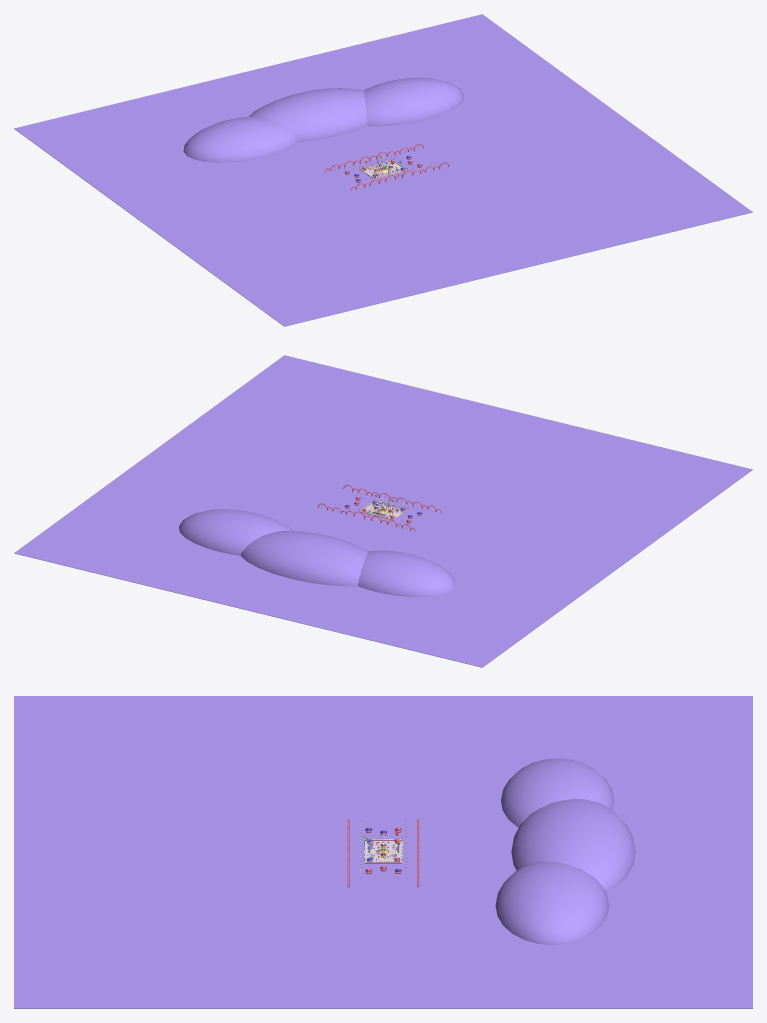
The model's file is diversoes.glb.
3 renders of one model, top to bottom at view 1: azimuth 30°, elevation 25°; view 2: azimuth 150°, elevation 25°; view 3: azimuth 270°, elevation 25°, orthographic. The views are drawn at different scales.
Parts seen in each view (by area): view 1: Visual; view 2: Visual; view 3: Visual.
Part boxes in pixels (x1,y1,x2,y2): Visual: [14, 14, 752, 326]; Visual: [14, 355, 752, 667]; Visual: [14, 696, 752, 1008].
Size of the model in its own units: 1400 by 140 by 1400.
